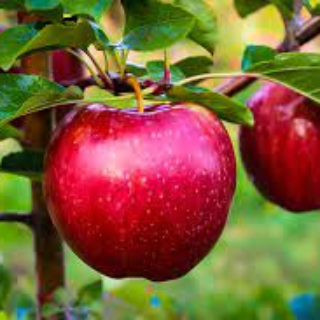tao: (39, 91, 239, 290)
